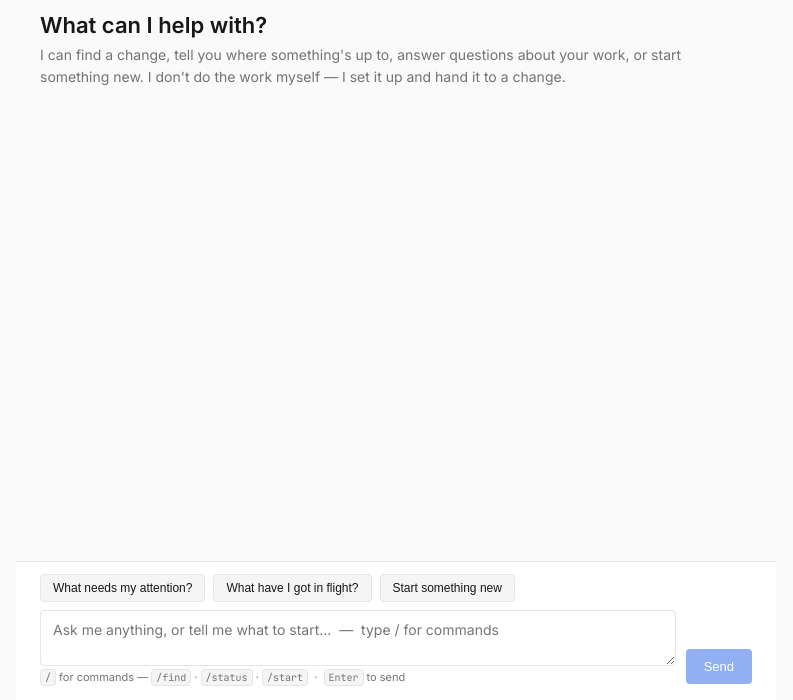
it: <ConciergeChat /> — the read-only front door (FR-33; signed contract) › a read-only answer OFFERS no act affordance (route=null → no buttons)
Replace the text in the text box named "ask the concierge" with "what have I got in flight?" at x=358, y=638, box [40, 610, 676, 666]
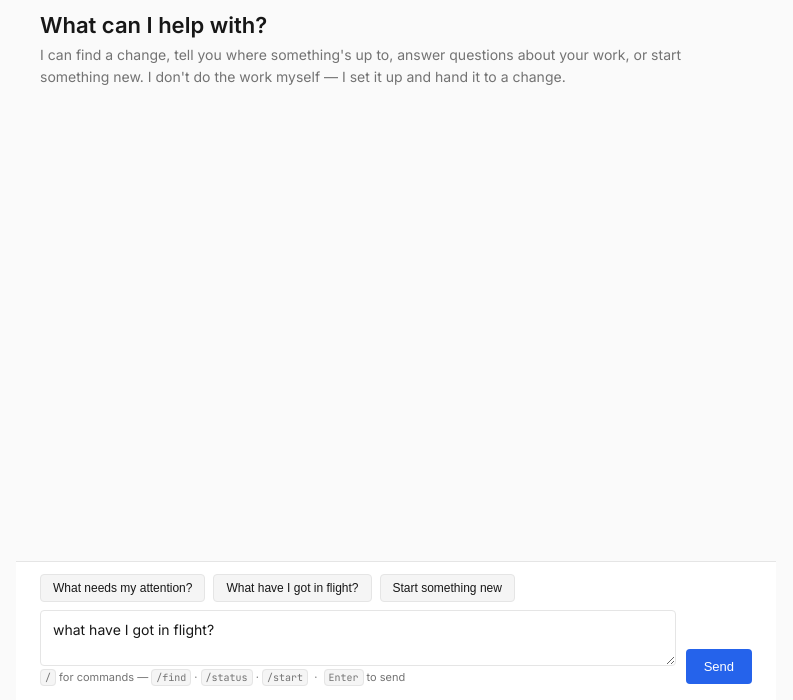
Press Enter in the text box named "ask the concierge", box [40, 610, 676, 666]
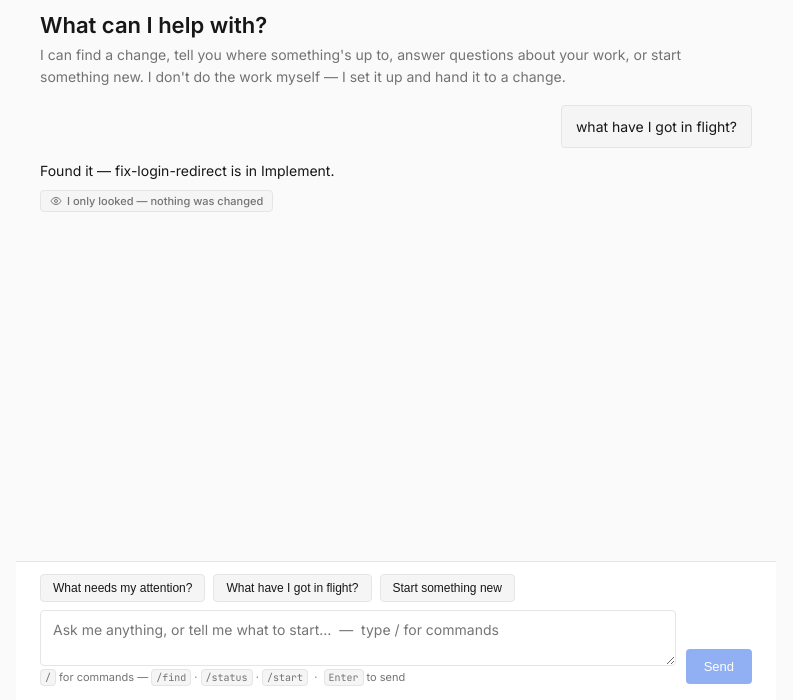
Expected: the text "Found it — fix-login-redirect is in Implement." is shown, [40, 162, 334, 179]
